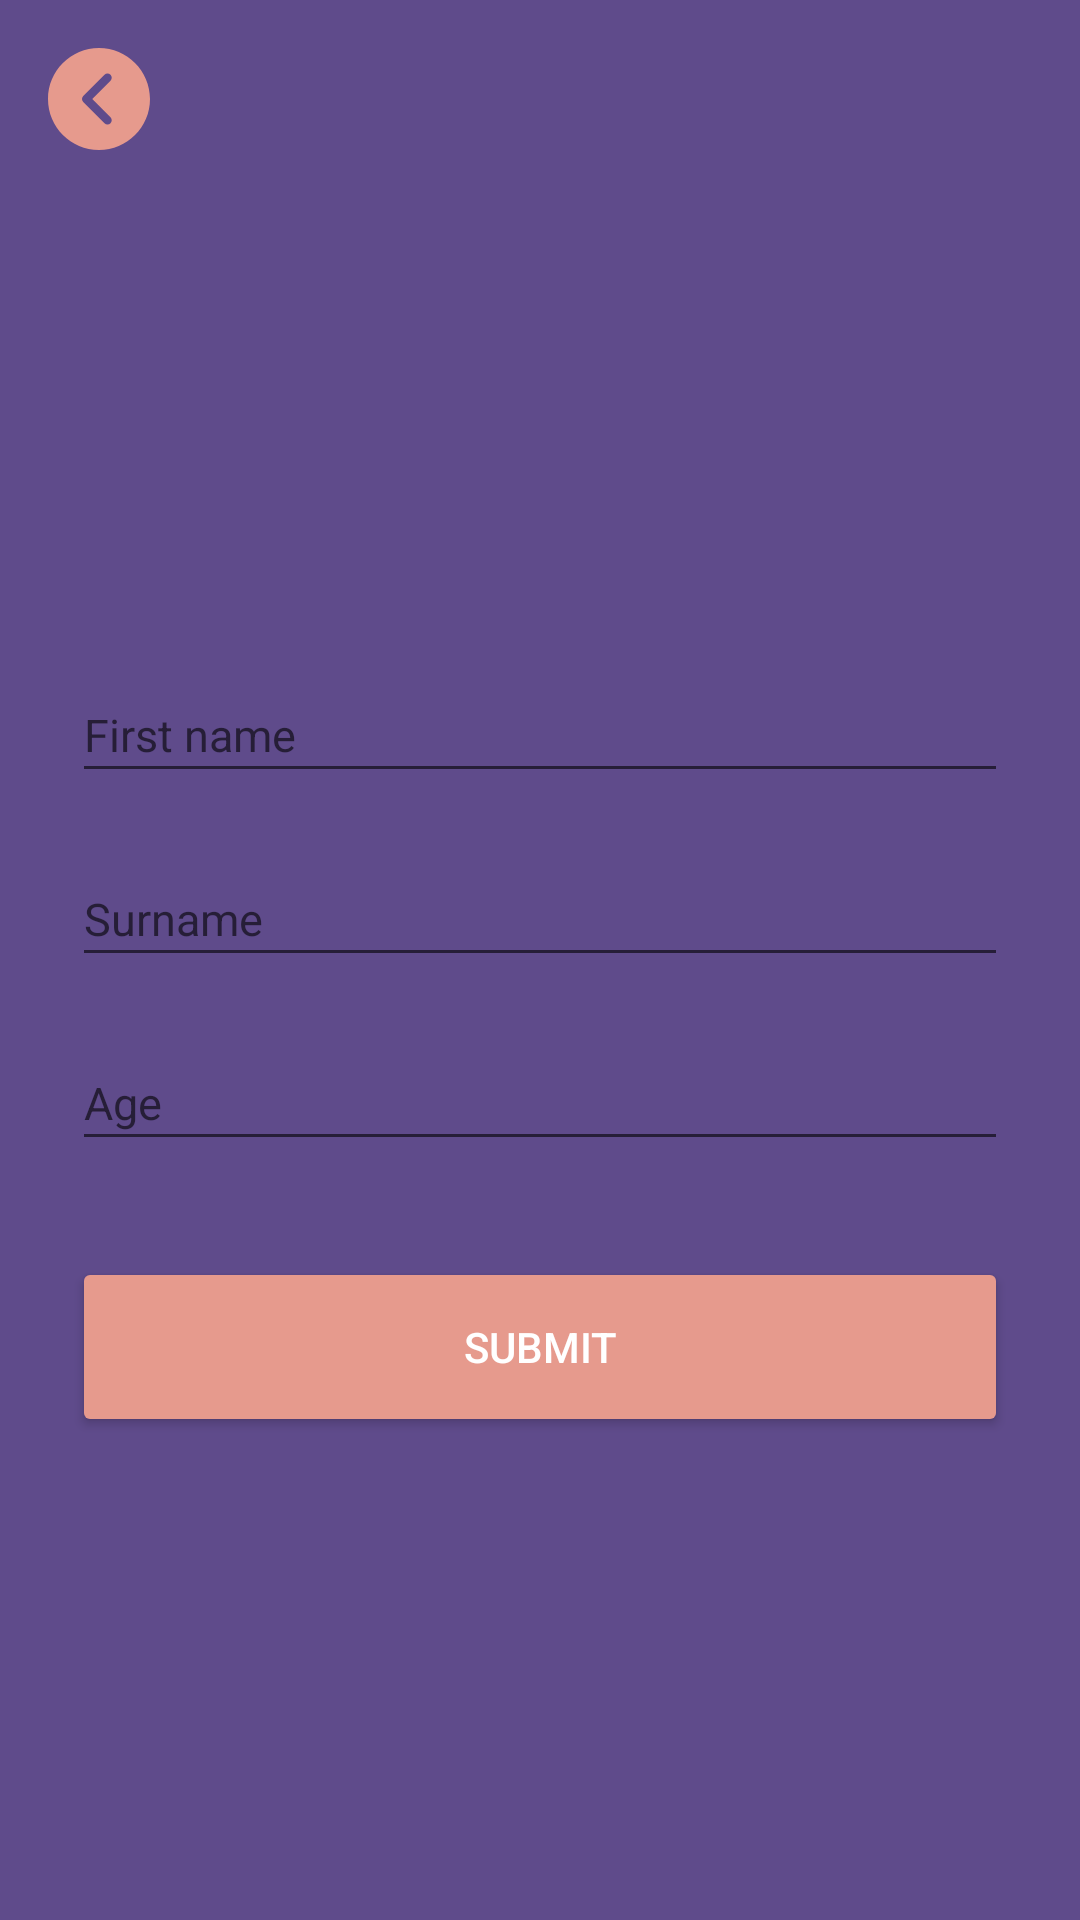

Point at icon controls on the screen. Image size 1080 x 1920, points as (x=x, y=y).
back: (x=99, y=99)
